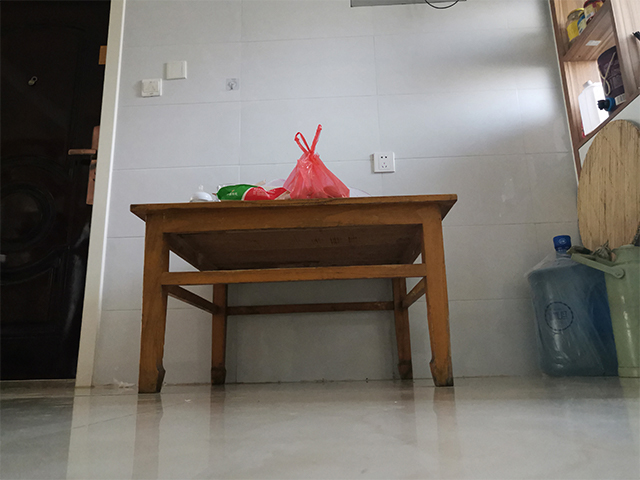table: (127, 190, 460, 396)
